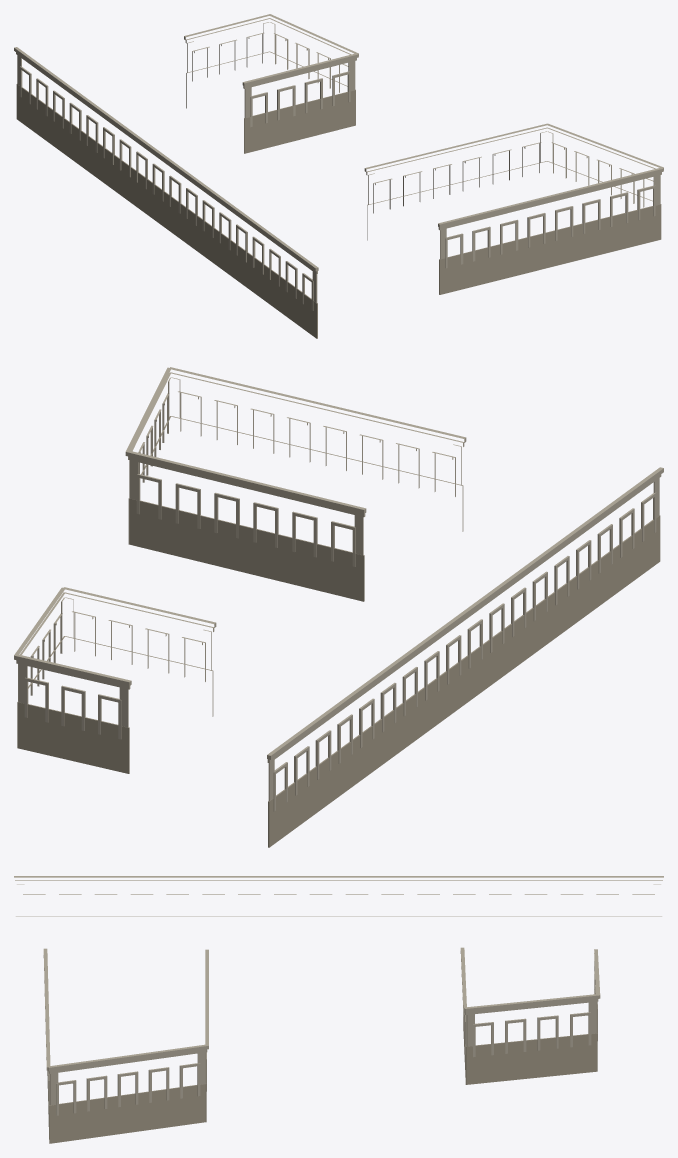
The picture shows the model from 3 angles, top to bottom: view 1: azimuth 30°, elevation 25°; view 2: azimuth 150°, elevation 25°; view 3: azimuth 270°, elevation 25°; orthographic projection. The views are drawn at different scales.
Visible parts, largest first — view 1: detail; view 2: detail; view 3: detail.
Boxes of the visible parts, x1,y1,x2,y2 form: detail: (14,14,663,338); detail: (14,367,663,847); detail: (14,876,663,1143).
Size of the model in its own units: 34.21 by 6.42 by 49.
